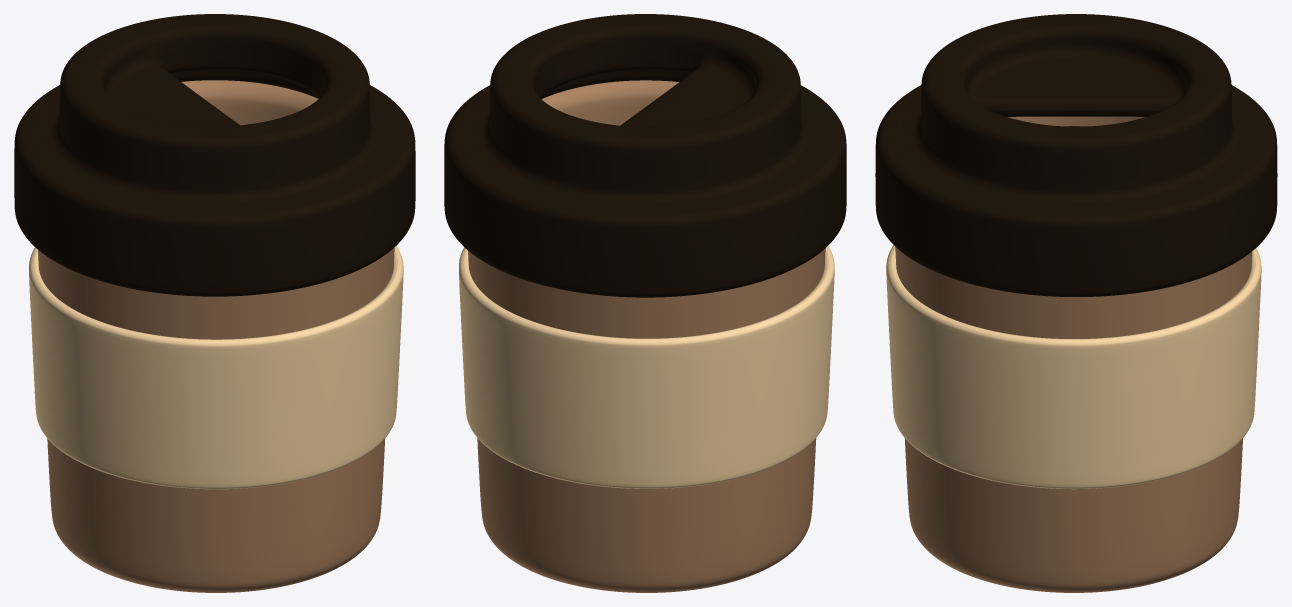
File: CoffeeCup.fbx
3 views of the same model, side by side, from view 1: azimuth 30°, elevation 25°; view 2: azimuth 150°, elevation 25°; view 3: azimuth 270°, elevation 25° (orthographic).
Parts seen in each view (by area): view 1: CoffeeCup, CoffeeCup-Sleeve, CoffeeCup-Body; view 2: CoffeeCup, CoffeeCup-Sleeve, CoffeeCup-Body; view 3: CoffeeCup, CoffeeCup-Sleeve, CoffeeCup-Body.
Boxes of the visible parts, x1,y1,x2,y2 form: CoffeeCup: (14, 14, 415, 296); CoffeeCup-Sleeve: (29, 246, 403, 489); CoffeeCup-Body: (38, 80, 394, 592); CoffeeCup: (444, 14, 846, 297); CoffeeCup-Sleeve: (459, 246, 834, 488); CoffeeCup-Body: (468, 80, 825, 592); CoffeeCup: (875, 14, 1277, 296); CoffeeCup-Sleeve: (886, 245, 1261, 489); CoffeeCup-Body: (895, 116, 1252, 592).
Size of the model in its own units: 62.04 by 77.41 by 62.04.
